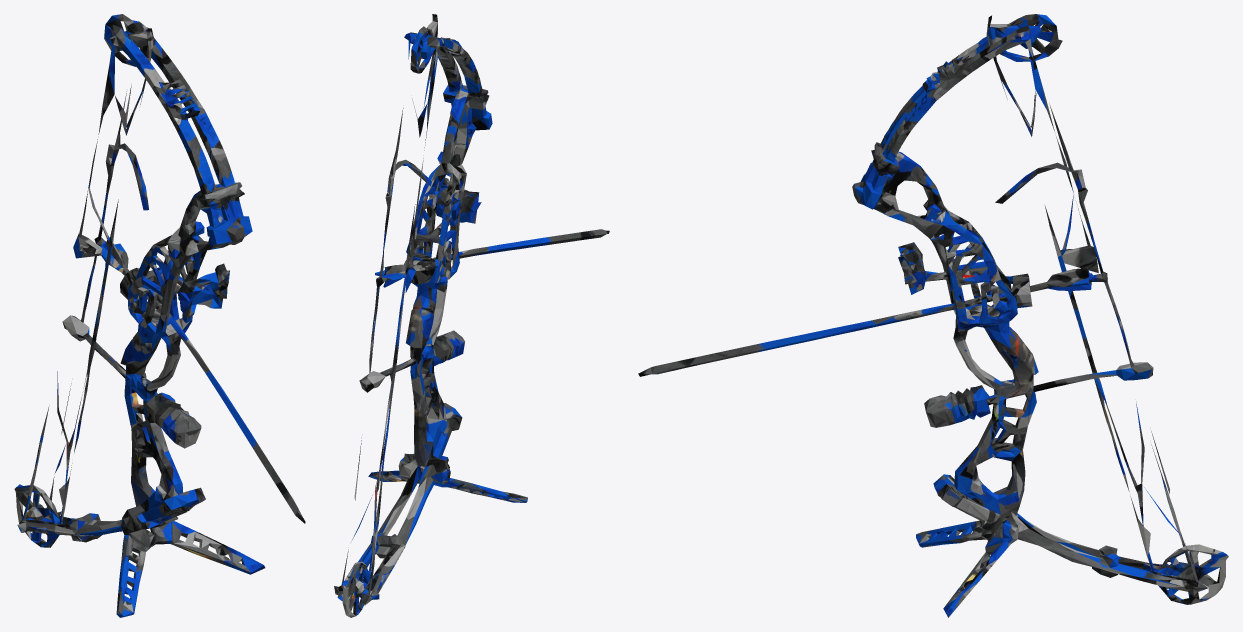
Rendered from compound_bow.obj.
3 views of the same model, side by side, from view 1: azimuth 30°, elevation 25°; view 2: azimuth 150°, elevation 25°; view 3: azimuth 270°, elevation 25° (orthographic). The views are drawn at different scales.
Parts seen in each view (by area): view 1: compound_bow; view 2: compound_bow; view 3: compound_bow.
Part boxes in pixels (x1,y1,x2,y2): compound_bow: (14,14,305,617); compound_bow: (334,14,609,617); compound_bow: (638,14,1228,617).
Size of the model in its own units: 0.283 by 0.9784 by 0.8812.
